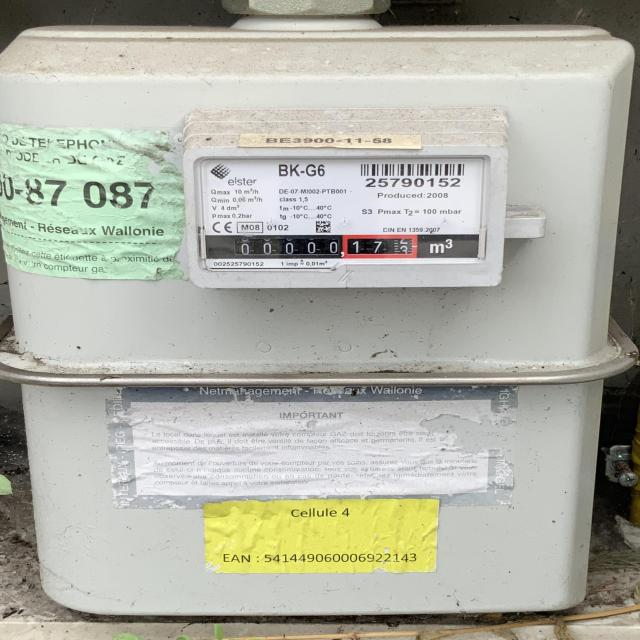gaz_meter: (192, 156, 480, 266)
indication: (235, 236, 418, 257)
